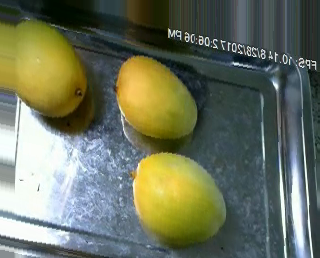Mango: (131, 154, 227, 244), (116, 54, 199, 139), (16, 19, 87, 116)
